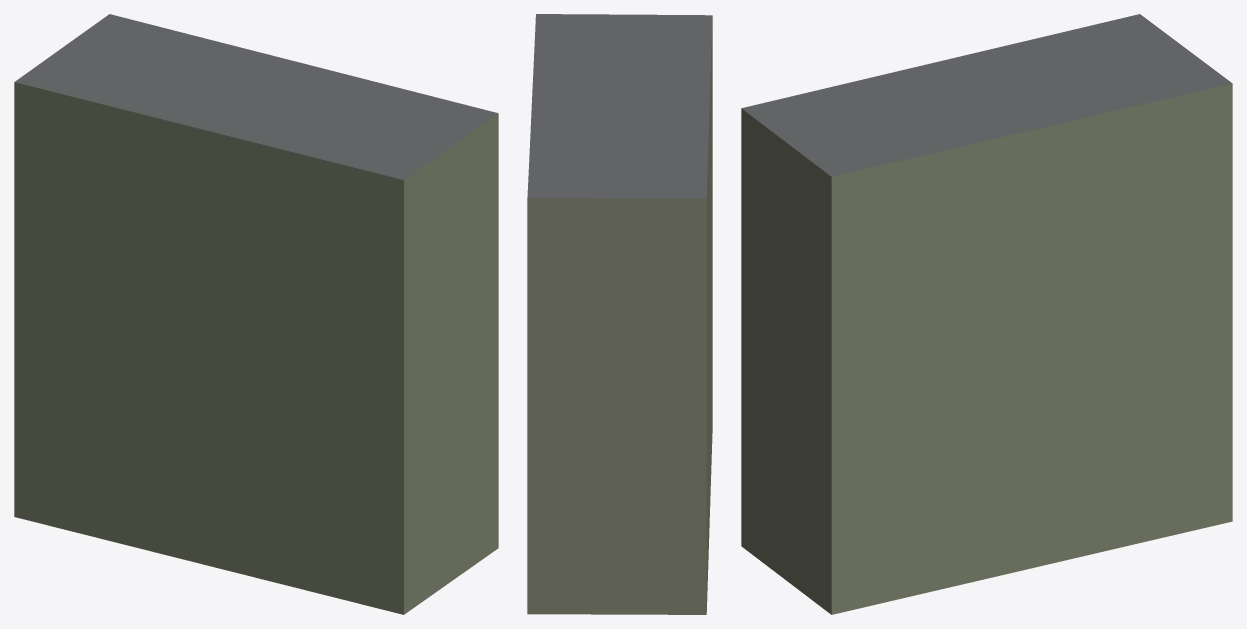
The model's file is nyc-1015260-0.glb.
The picture shows the model from 3 angles, left to right: view 1: azimuth 30°, elevation 25°; view 2: azimuth 150°, elevation 25°; view 3: azimuth 270°, elevation 25°; orthographic projection. The views are drawn at different scales.
Visible parts, largest first — view 1: nyc-1015260-0; view 2: nyc-1015260-0; view 3: nyc-1015260-0.
Part boxes in pixels (box(x1,y1,x2,y2)): nyc-1015260-0: box(14, 14, 498, 614); nyc-1015260-0: box(527, 14, 712, 614); nyc-1015260-0: box(741, 14, 1232, 614).
Size of the model in its own units: 25.54 by 32.03 by 32.55.
